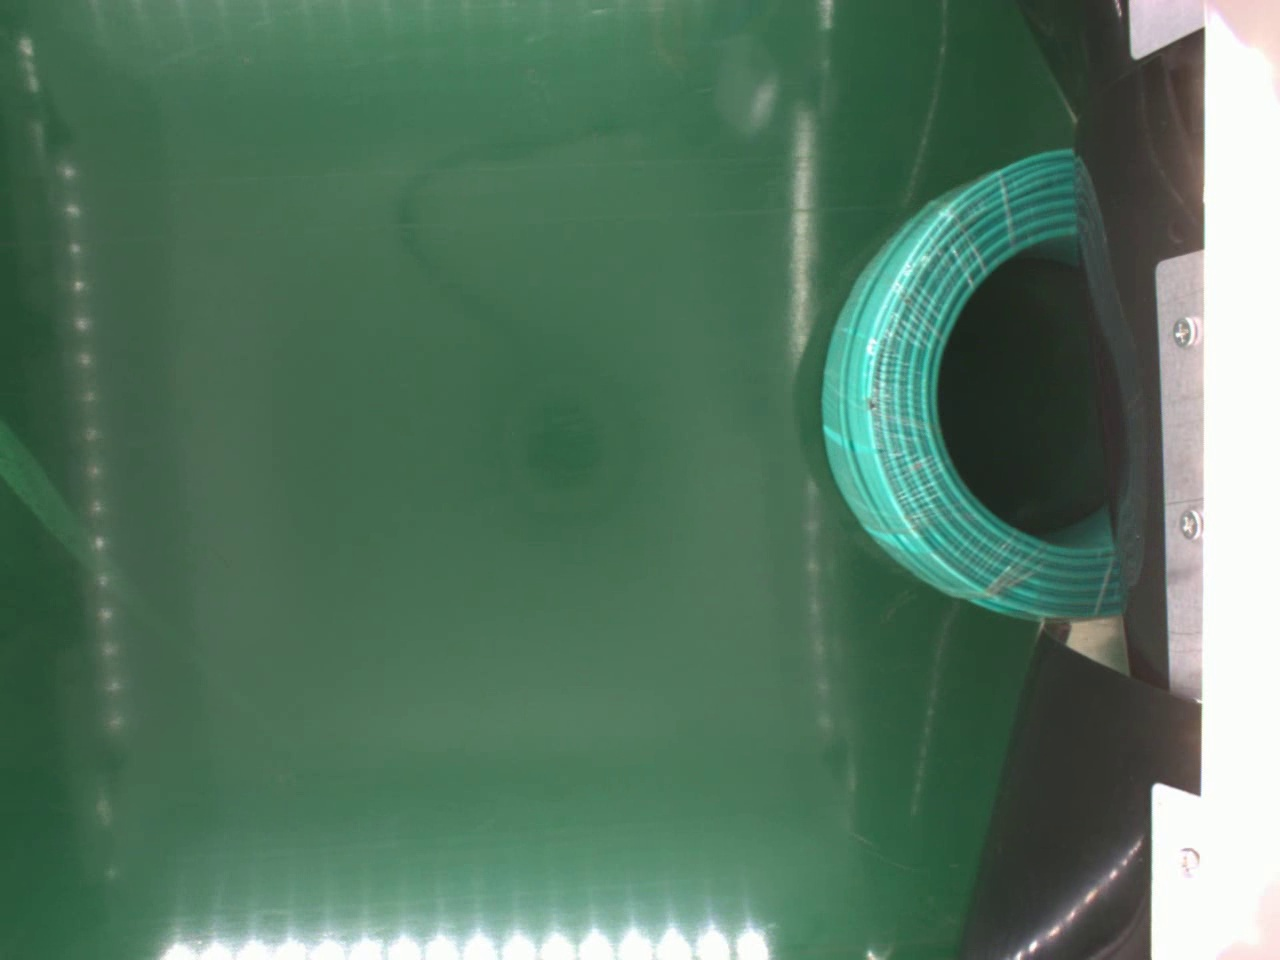green: (819, 144, 1125, 619)
